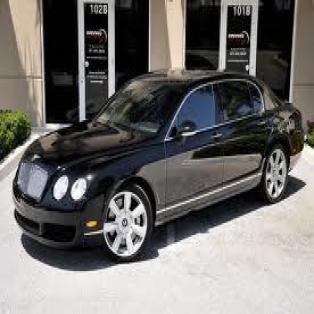Auto: (9, 65, 308, 266)
